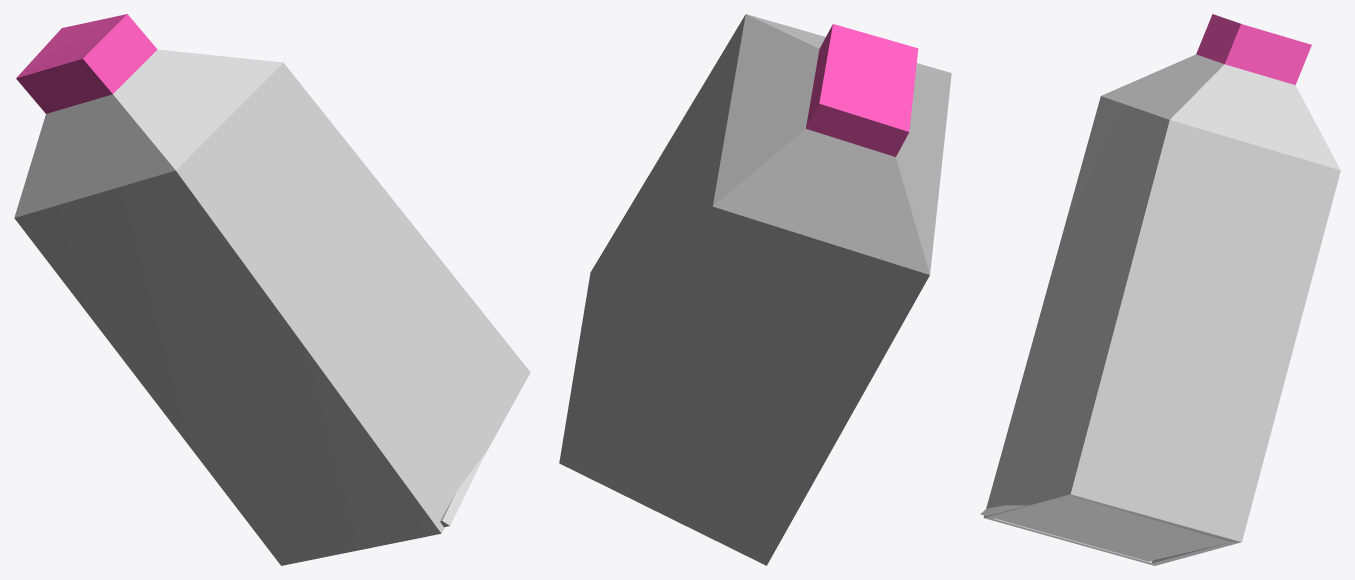
The model's file is Bottle (1).fbx.
3 renders of one model, left to right at view 1: azimuth 30°, elevation 25°; view 2: azimuth 150°, elevation 25°; view 3: azimuth 270°, elevation 25°, orthographic. The views are drawn at different scales.
Parts seen in each view (by area): view 1: Bottle__1_; view 2: Bottle__1_; view 3: Bottle__1_.
Boxes of the visible parts, x1,y1,x2,y2 form: Bottle__1_: [14, 14, 530, 565]; Bottle__1_: [559, 14, 951, 565]; Bottle__1_: [980, 14, 1340, 565].
Bounding box in the file's own units: 3905 × 4952 × 3272.
